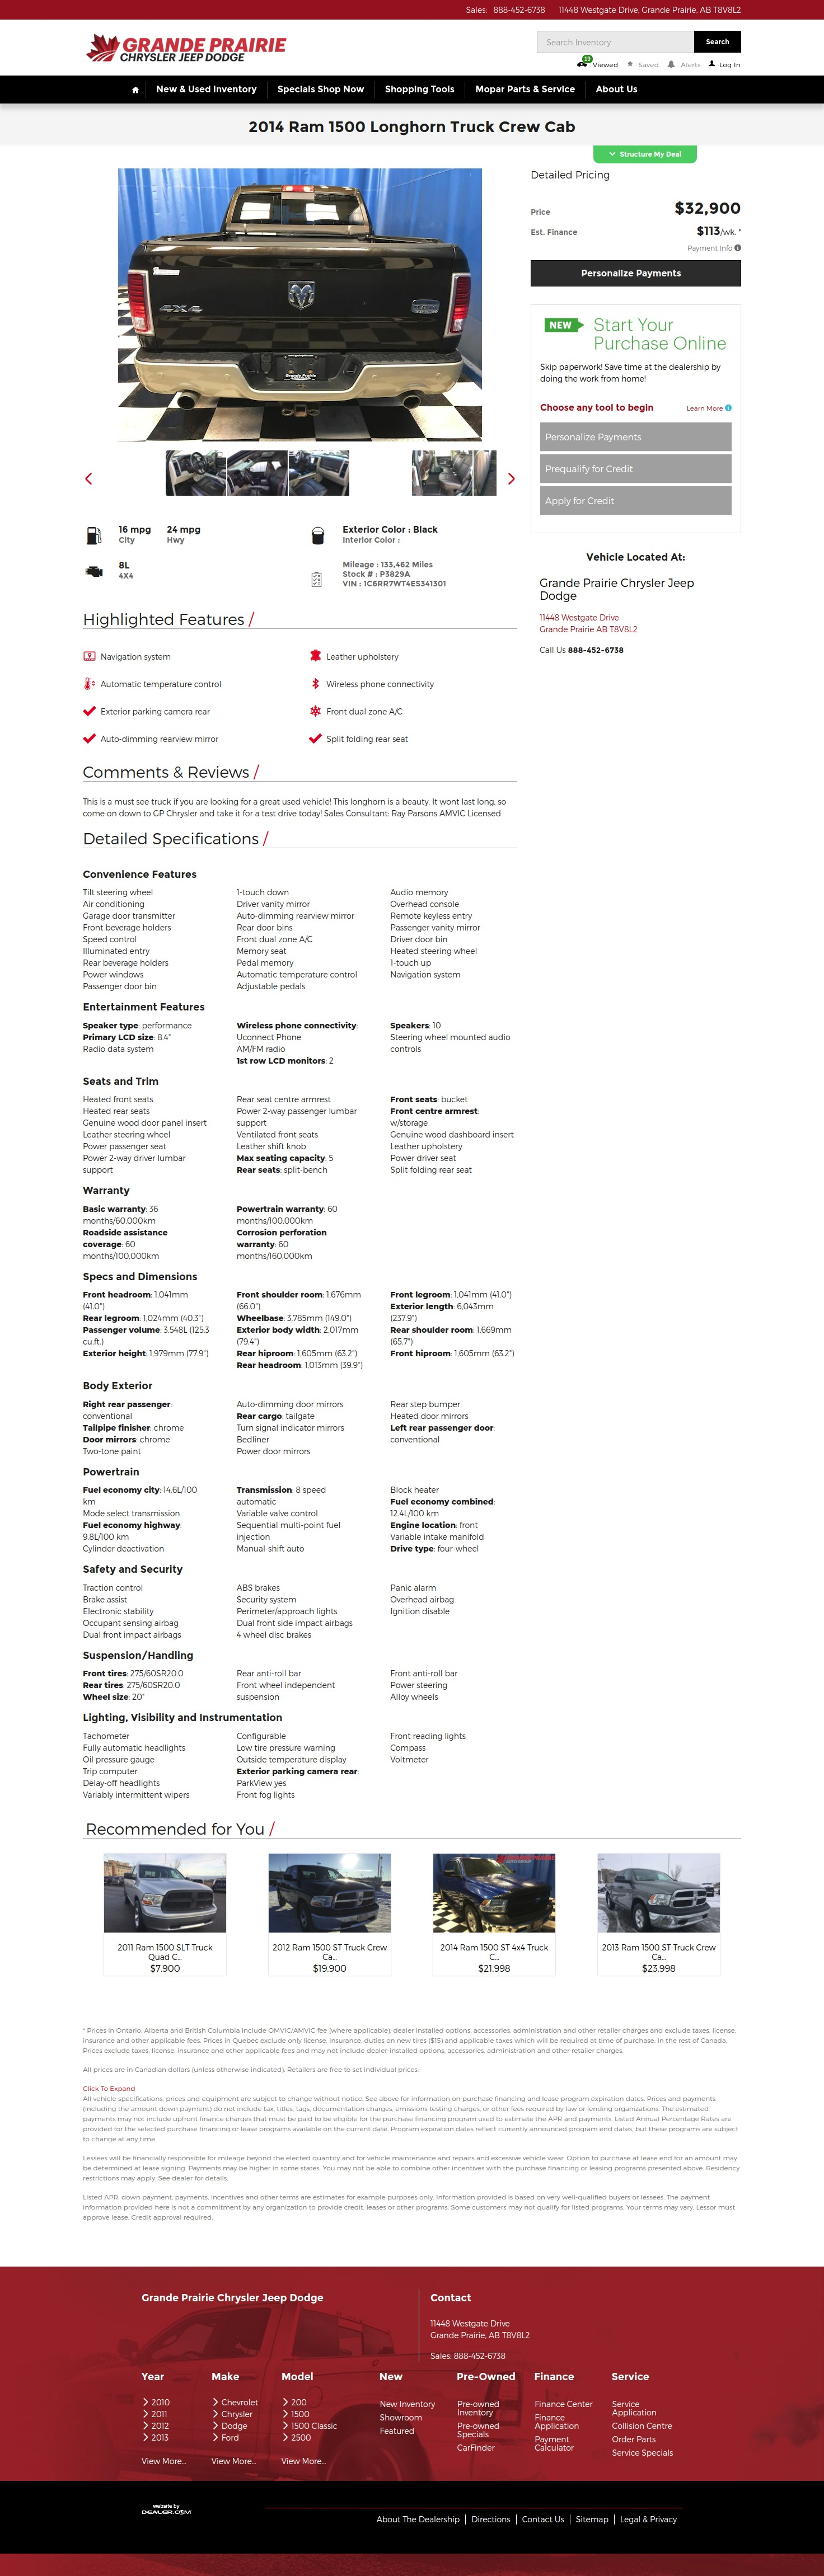car: (508, 473, 515, 485)
